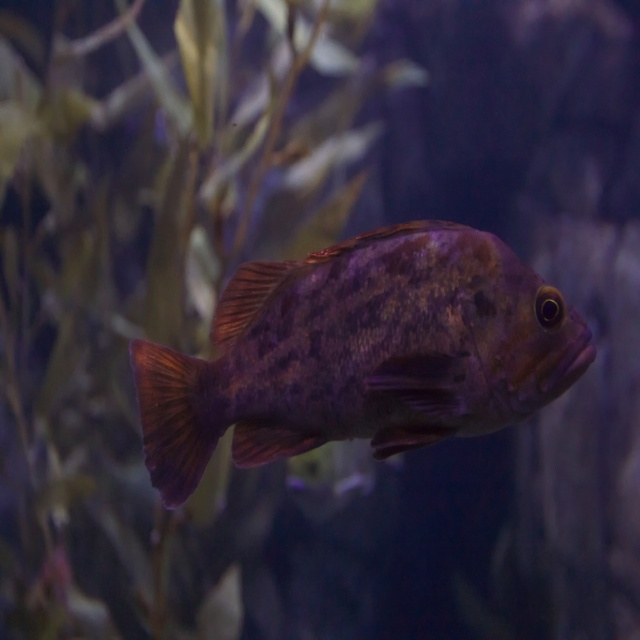Fish: (128, 219, 596, 513)
